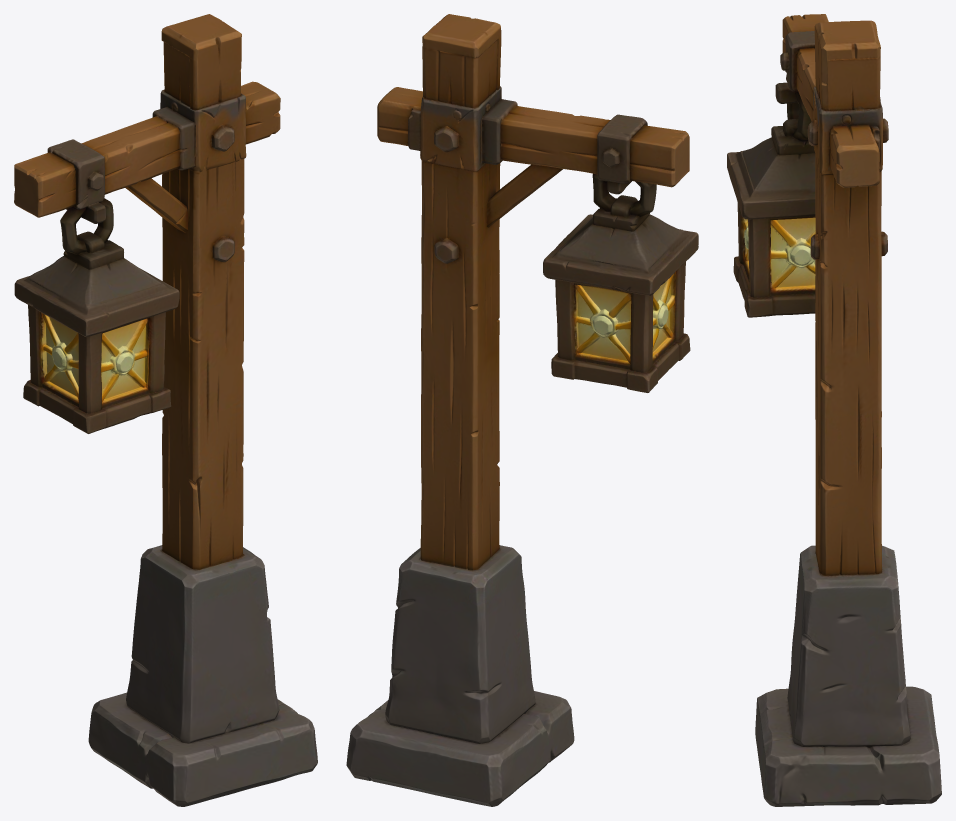
Rendered from VillageLampPost.glb.
3 renders of one model, left to right at view 1: azimuth 30°, elevation 25°; view 2: azimuth 150°, elevation 25°; view 3: azimuth 270°, elevation 25°, orthographic.
Visible parts, largest first — view 1: tripo_node_b71312f1-c0ac-49d9-8bb3-2a8ceef90eaf; view 2: tripo_node_b71312f1-c0ac-49d9-8bb3-2a8ceef90eaf; view 3: tripo_node_b71312f1-c0ac-49d9-8bb3-2a8ceef90eaf.
Part boxes in pixels (box(x1,y1,x2,y2)): tripo_node_b71312f1-c0ac-49d9-8bb3-2a8ceef90eaf: box(14, 14, 317, 806); tripo_node_b71312f1-c0ac-49d9-8bb3-2a8ceef90eaf: box(346, 14, 698, 806); tripo_node_b71312f1-c0ac-49d9-8bb3-2a8ceef90eaf: box(727, 14, 941, 806).
Bounding box in the file's own units: 0.3908 × 0.9793 × 0.2583.
1 material, 1 textured.
